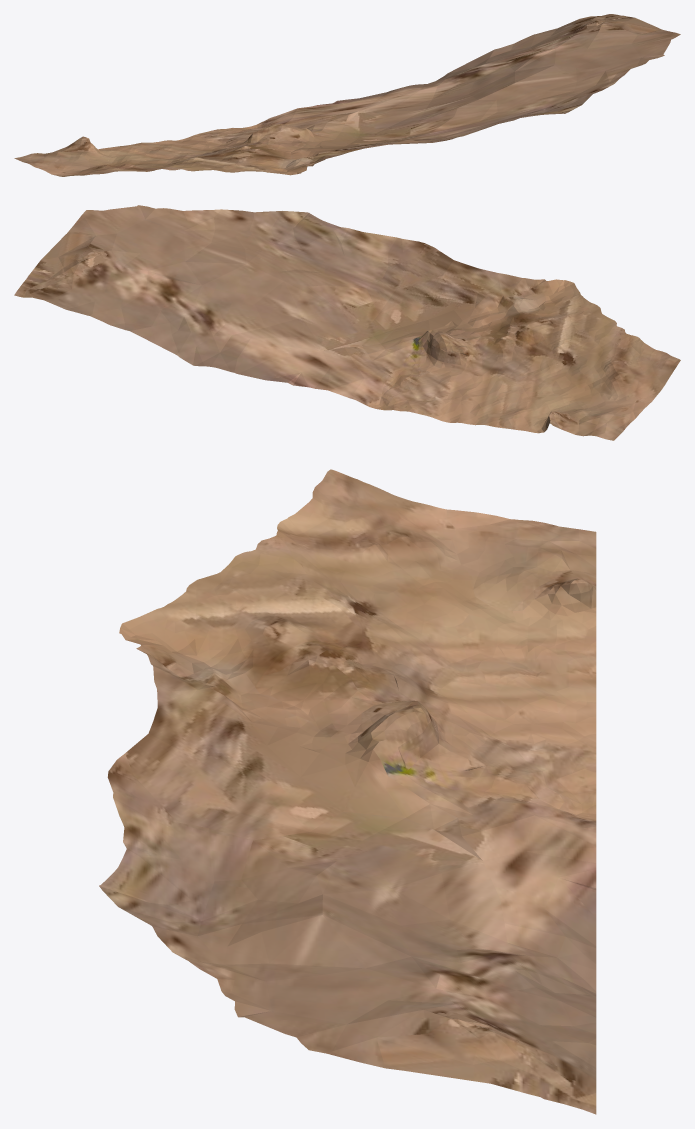
The picture shows the model from 3 angles, top to bottom: view 1: azimuth 30°, elevation 25°; view 2: azimuth 150°, elevation 25°; view 3: azimuth 270°, elevation 25°; orthographic projection. The views are drawn at different scales.
Bounding box in the file's own units: 1.04 × 0.098 × 0.378.
Materials: 1 (1 with a texture image).
